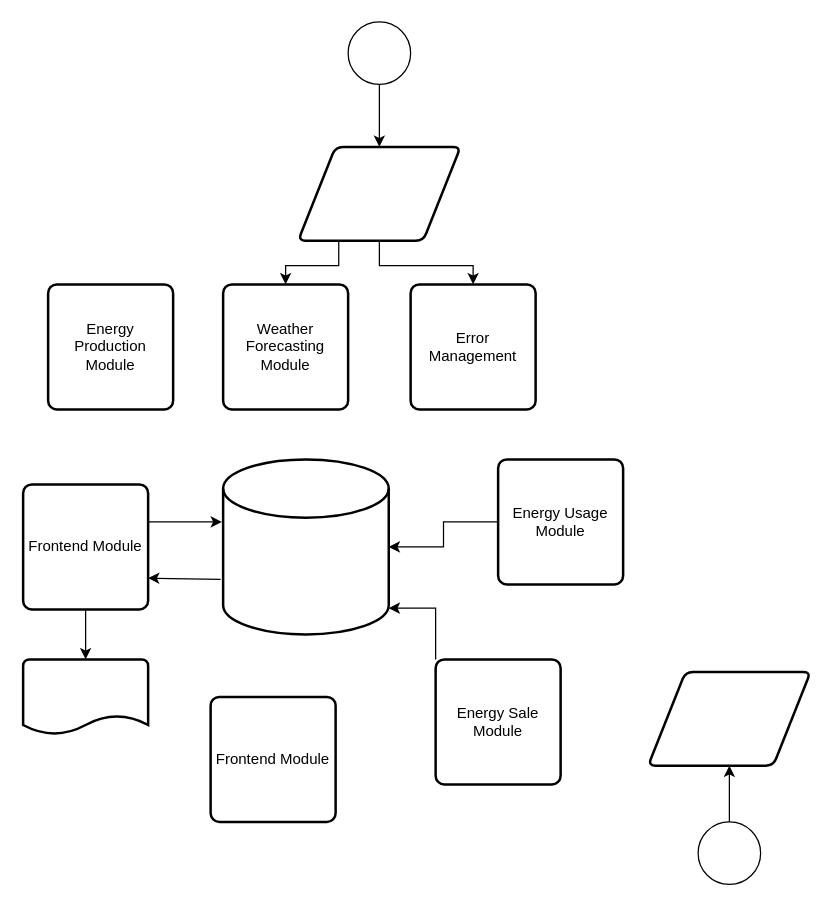
This 833x906 diagram has some shape labels left out. The shapes that lost their labels are listed below. From the top down, each one's centre as x and y in pixels, then its label:
(x=378, y=193): Wind Speed Temperature Cloud Cover Error
(x=305, y=546): Backend DB
(x=85, y=696): Website
(x=728, y=718): Energy Prices
